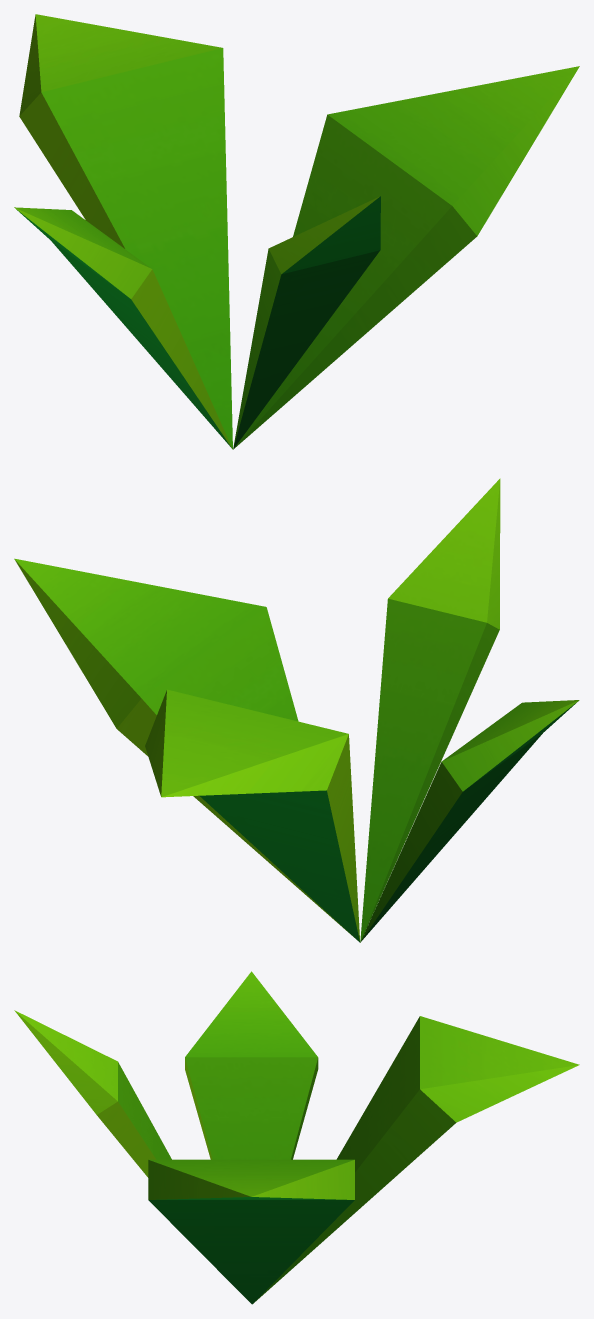
File: GL-Plant-03-LOD3.fbx
3 views of the same model, one above another, from view 1: azimuth 30°, elevation 25°; view 2: azimuth 150°, elevation 25°; view 3: azimuth 270°, elevation 25° (orthographic). The views are drawn at different scales.
Visible parts, largest first — view 1: GL_Plant_03; view 2: GL_Plant_03; view 3: GL_Plant_03.
Part boxes in pixels (bbox=[...]): GL_Plant_03: bbox=[14, 14, 579, 449]; GL_Plant_03: bbox=[14, 478, 579, 942]; GL_Plant_03: bbox=[14, 971, 579, 1304].
Bounding box in the file's own units: 0.7562 × 0.4576 × 0.792.
